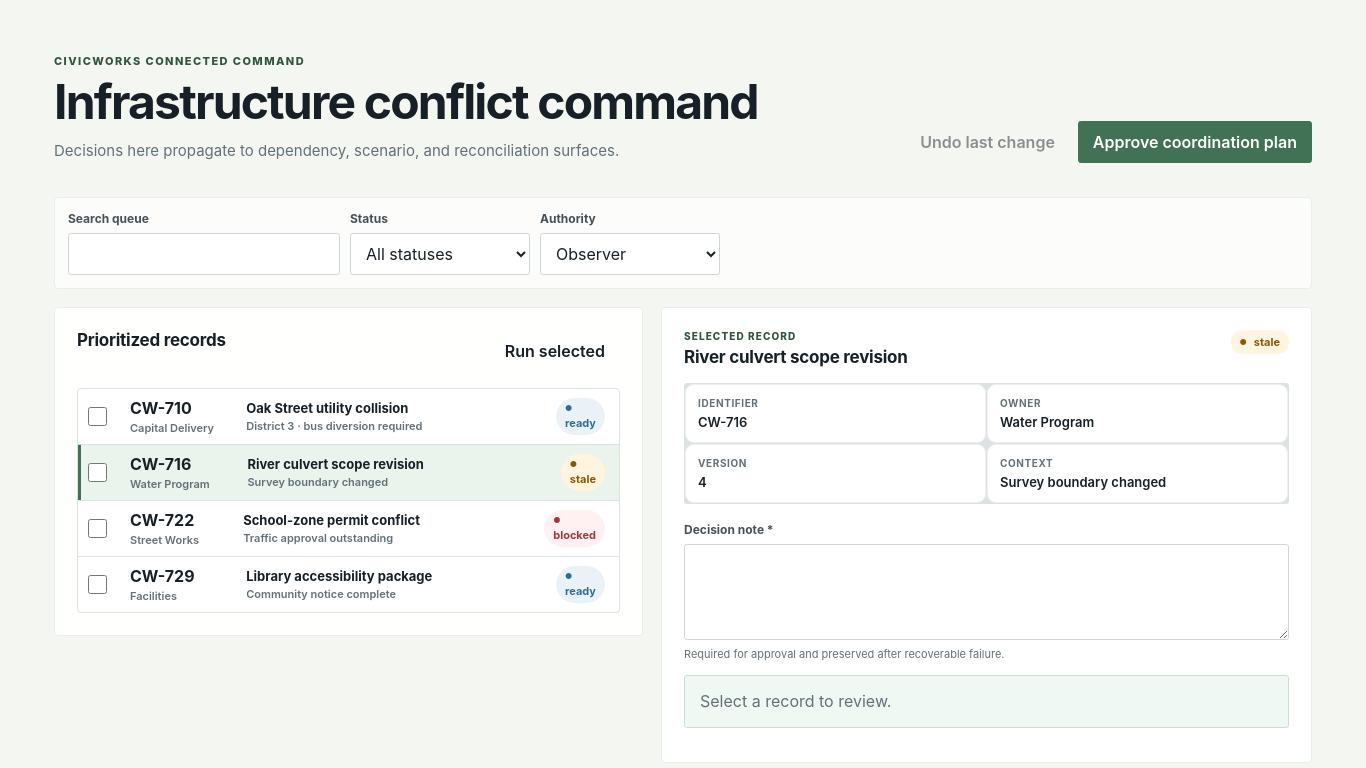
Infrastructure conflict command › recovers a stale save while preserving the decision note
Select "Approver" in the dropdown labelled "Authority" at (630, 254), box [540,233,720,275]
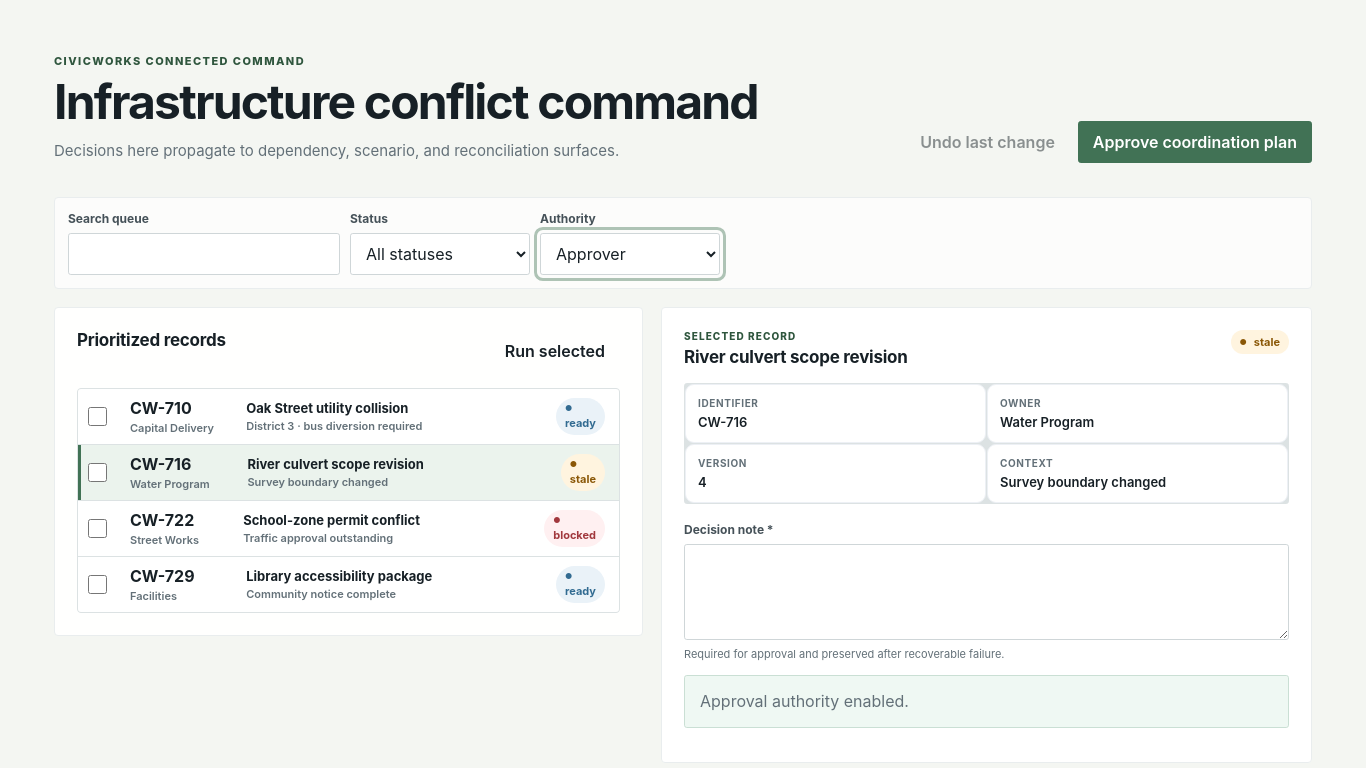
Type "Keep this evidence-based rationale" into the text box labelled "Decision note" at (986, 592), box [684,544,1289,640]
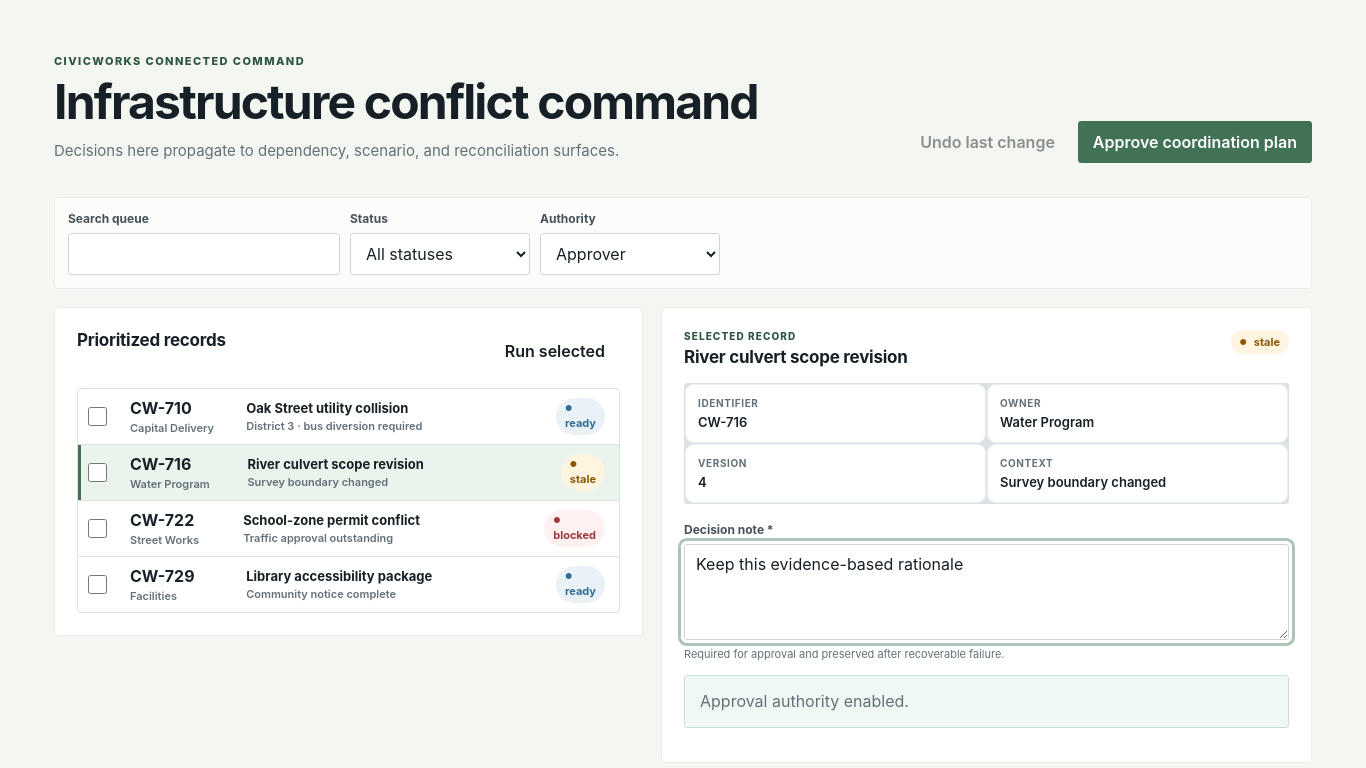
Click the button "Approve coordination plan" at (1195, 142), box [1078,121,1312,163]
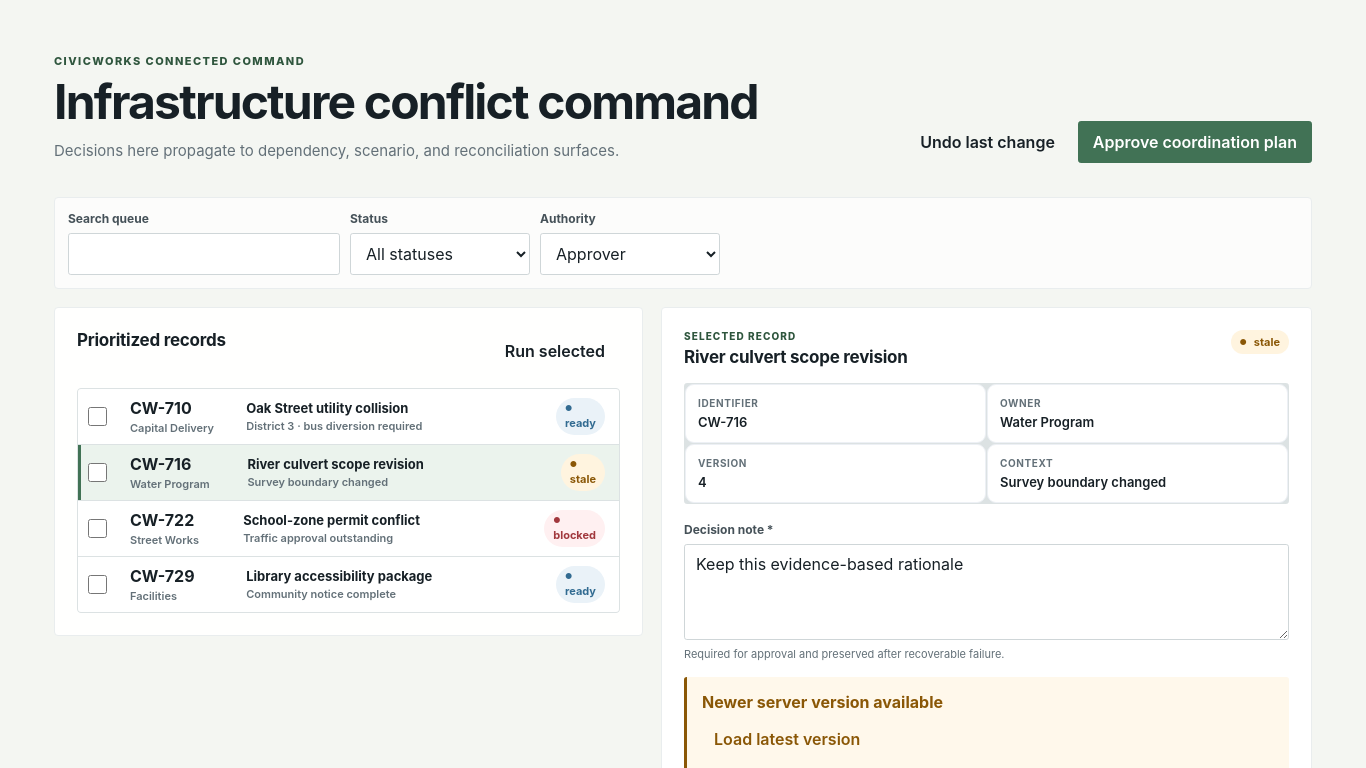
expect the message shows "Newer server version": met, box [702,692,943,712]
Click the button "Load latest version" at (787, 739), box [702,718,1274,760]
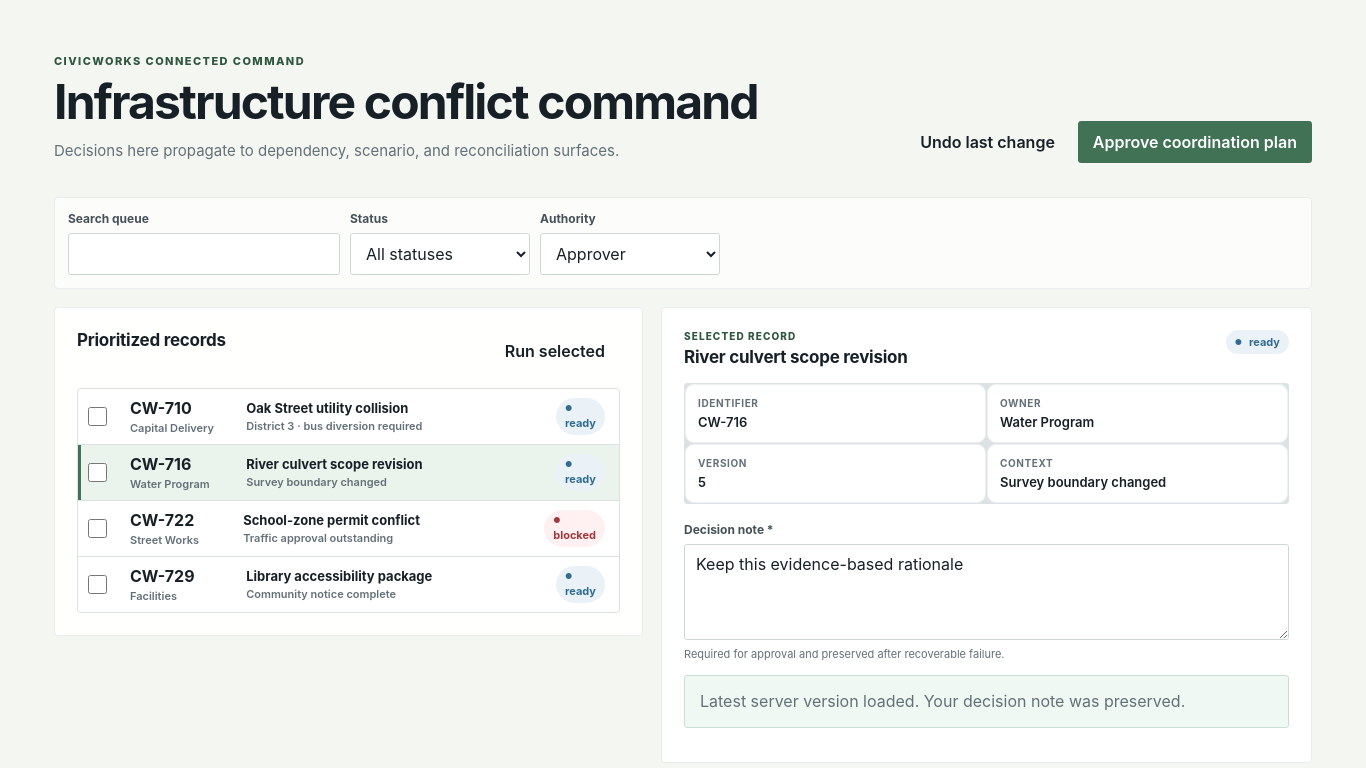
Click the button "Approve coordination plan" at (1195, 142), box [1078,121,1312,163]
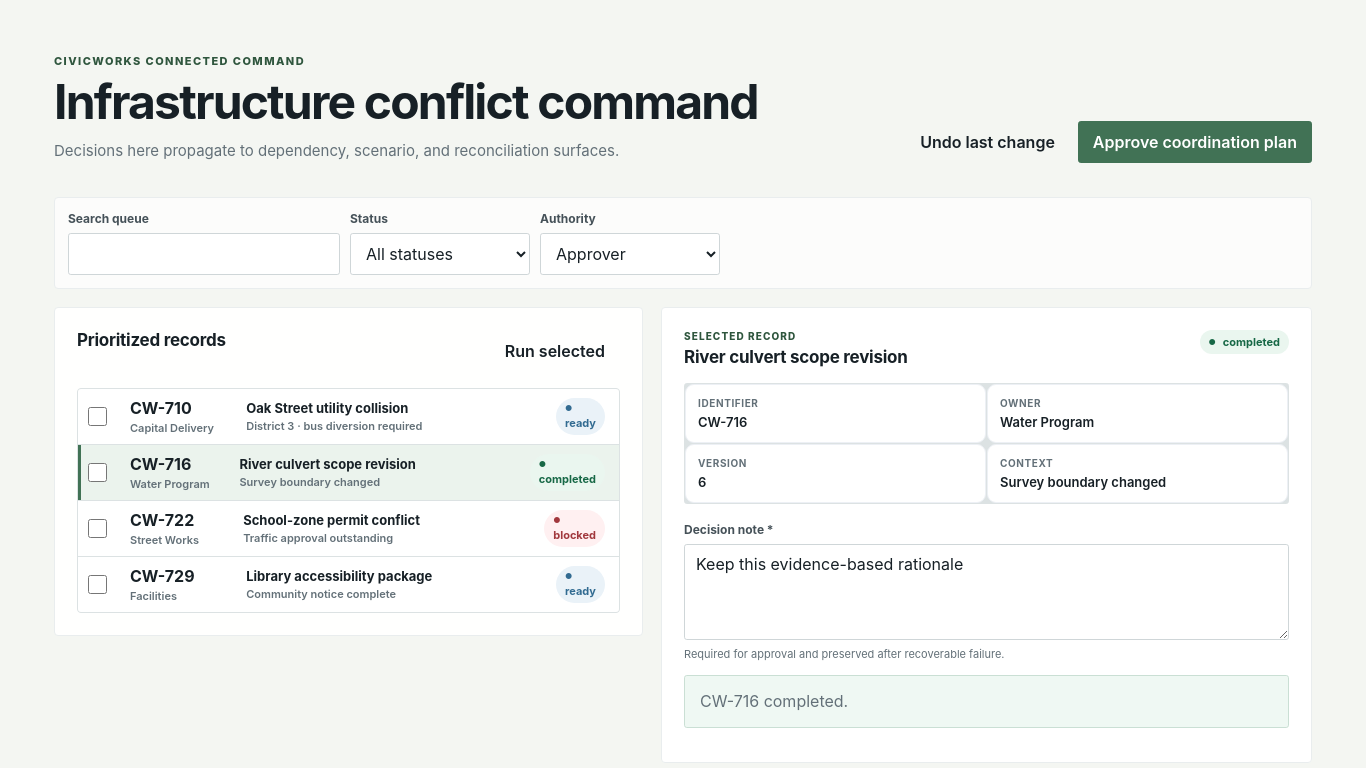
expect the message shows "completed": met, box [700,691,848,711]
